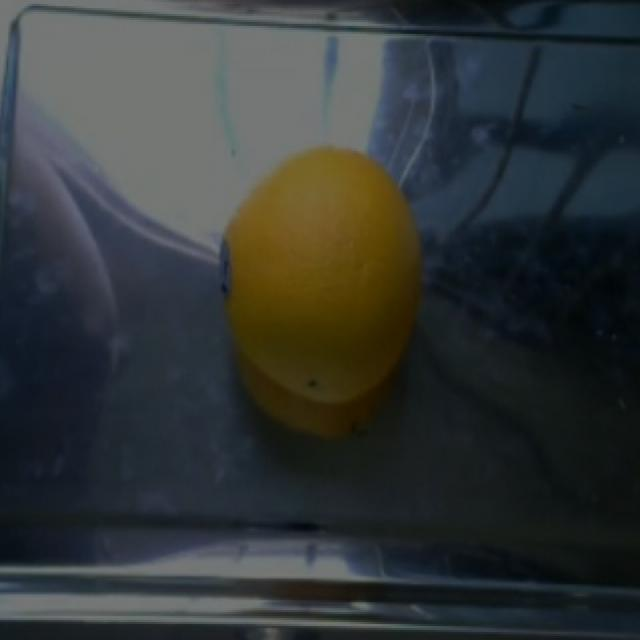Fruit: (214, 131, 434, 455)
